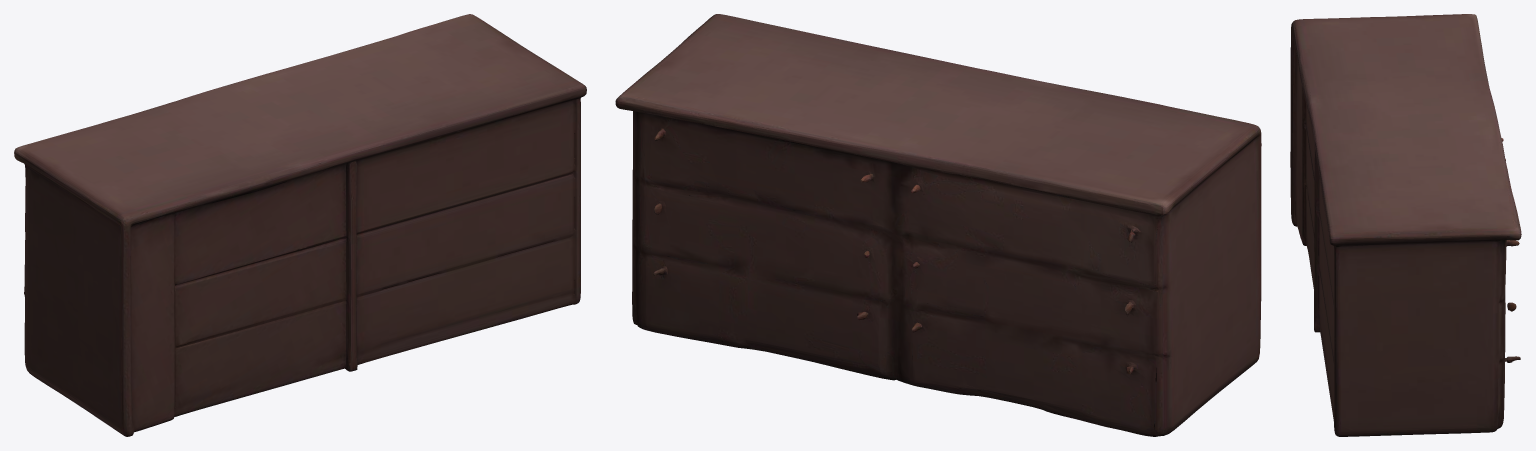
The model's file is brown_wooden_dresser_000.glb.
3 renders of one model, left to right at view 1: azimuth 30°, elevation 25°; view 2: azimuth 150°, elevation 25°; view 3: azimuth 270°, elevation 25°, orthographic. The views are drawn at different scales.
Parts seen in each view (by area): view 1: phase2_final_brown_wooden_dresser_000.obj; view 2: phase2_final_brown_wooden_dresser_000.obj; view 3: phase2_final_brown_wooden_dresser_000.obj.
Boxes of the visible parts, x1=… form: phase2_final_brown_wooden_dresser_000.obj: x1=14, y1=14, x2=586, y2=436; phase2_final_brown_wooden_dresser_000.obj: x1=615, y1=14, x2=1261, y2=436; phase2_final_brown_wooden_dresser_000.obj: x1=1290, y1=14, x2=1521, y2=436.
Size of the model in its own units: 0.9298 by 0.3979 by 0.4065.
Materials: 1 (1 with a texture image).
